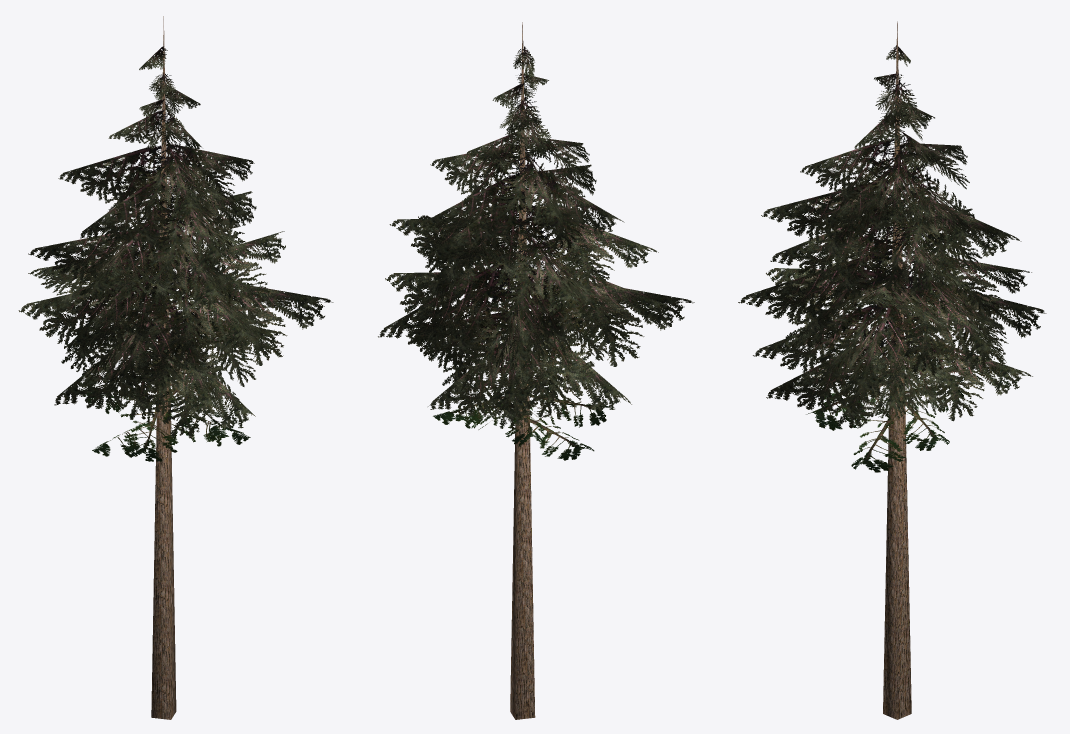
File: ever_pinetree_medium_l1.fbx
The picture shows the model from 3 angles, left to right: view 1: azimuth 30°, elevation 25°; view 2: azimuth 150°, elevation 25°; view 3: azimuth 270°, elevation 25°; orthographic projection.
Parts seen in each view (by area): view 1: mesh_node; view 2: mesh_node; view 3: mesh_node.
Part boxes in pixels (left/top/right/bottom): mesh_node: left=18, top=16, right=333, bottom=719; mesh_node: left=378, top=22, right=694, bottom=719; mesh_node: left=738, top=21, right=1046, bottom=719.
Size of the model in its own units: 6.89 by 15.77 by 6.6.
